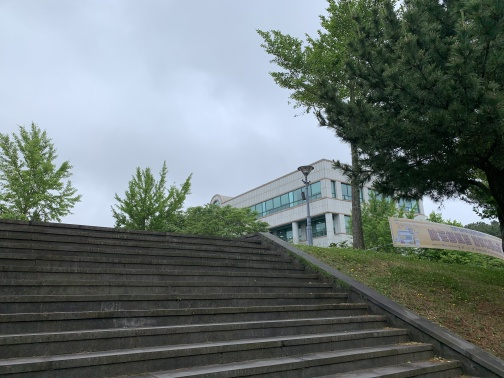Second Library: (205, 159, 423, 253)
